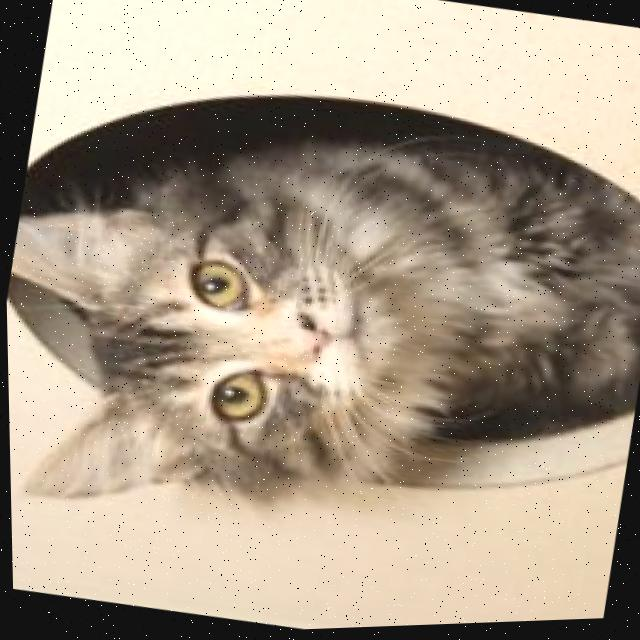Maine Coon: (1, 65, 640, 601)
